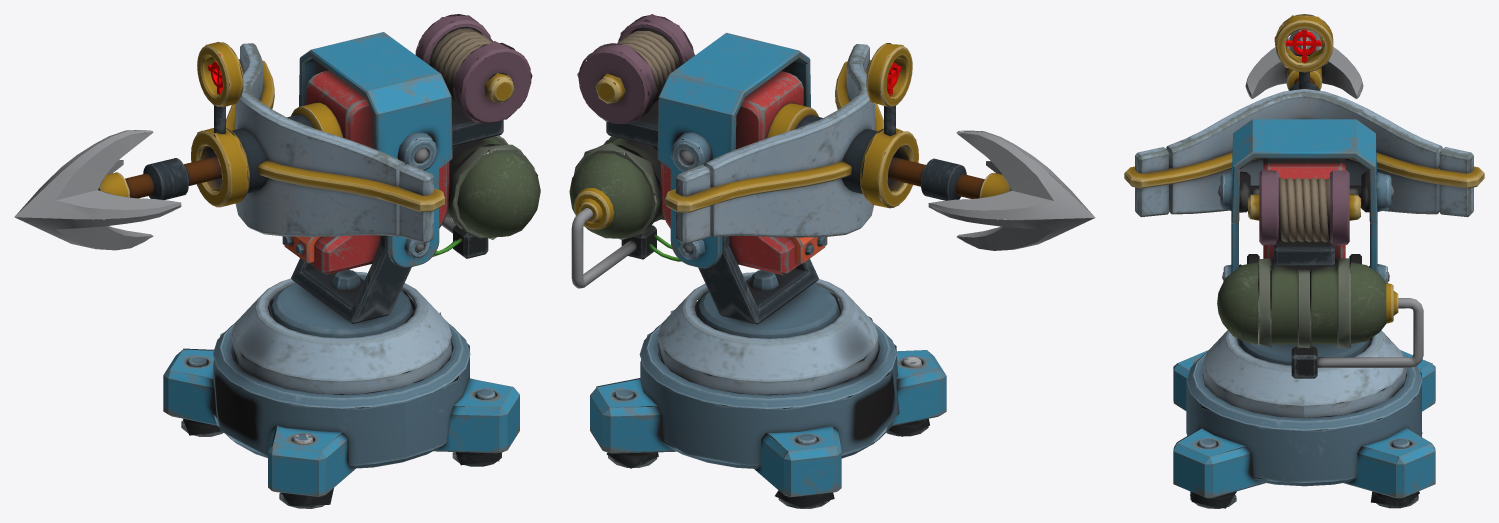
The model's file is harpoon_turret_lod.glb.
3 views of the same model, side by side, from view 1: azimuth 30°, elevation 25°; view 2: azimuth 150°, elevation 25°; view 3: azimuth 270°, elevation 25° (orthographic). The views are drawn at different scales.
Visible parts, largest first — view 1: Harpoon001, Harpoon009, Harpoon002, Harpoon033, Harpoon010, Harpoon017, Harpoon040, Harpoon020, Harpoon006, Harpoon019, Harpoon029, Harpoon038 (+12 smaller); view 2: Harpoon001, Harpoon009, Harpoon002, Harpoon033, Harpoon010, Harpoon017, Harpoon040, Harpoon020, Harpoon006, Harpoon019, Harpoon038, Harpoon029 (+13 smaller); view 3: Harpoon009, Harpoon001, Harpoon002, Harpoon033, Harpoon020, Harpoon010, Harpoon021, Harpoon038, Harpoon040, Harpoon012, Harpoon017, Harpoon028 (+8 smaller).
Boxes of the visible parts, box(x1,y1,x2,y2) form: Harpoon001: box(213, 323, 470, 468); Harpoon009: box(235, 43, 433, 243); Harpoon002: box(231, 271, 451, 408); Harpoon033: box(163, 348, 519, 496); Harpoon010: box(299, 32, 452, 267); Harpoon017: box(14, 130, 181, 250); Harpoon040: box(415, 14, 532, 123); Harpoon020: box(447, 137, 540, 237); Harpoon006: box(282, 70, 449, 274); Harpoon019: box(291, 235, 411, 323); Harpoon029: box(270, 276, 413, 337); Harpoon038: box(226, 59, 444, 212); Harpoon001: box(639, 323, 899, 468); Harpoon009: box(676, 44, 874, 244); Harpoon002: box(658, 272, 878, 408); Harpoon033: box(590, 350, 946, 497); Harpoon010: box(657, 32, 810, 268); Harpoon017: box(928, 130, 1095, 250); Harpoon040: box(577, 14, 694, 123); Harpoon020: box(569, 138, 662, 238); Harpoon006: box(661, 71, 827, 275); Harpoon019: box(698, 236, 818, 324); Harpoon038: box(665, 60, 883, 212); Harpoon029: box(696, 276, 840, 338); Harpoon009: box(1135, 89, 1473, 217); Harpoon001: box(1186, 352, 1422, 486); Harpoon002: box(1203, 330, 1406, 430); Harpoon033: box(1173, 350, 1435, 498); Harpoon020: box(1217, 262, 1398, 344); Harpoon010: box(1231, 119, 1377, 272); Harpoon021: box(1258, 258, 1350, 348); Harpoon038: box(1124, 152, 1484, 188); Harpoon040: box(1248, 170, 1360, 245); Harpoon012: box(1278, 177, 1330, 242); Harpoon017: box(1245, 29, 1363, 98); Harpoon028: box(1217, 171, 1394, 282).
Bounding box in the file's own units: 6.04 × 4.92 × 4.12.
1 material, 1 textured.
